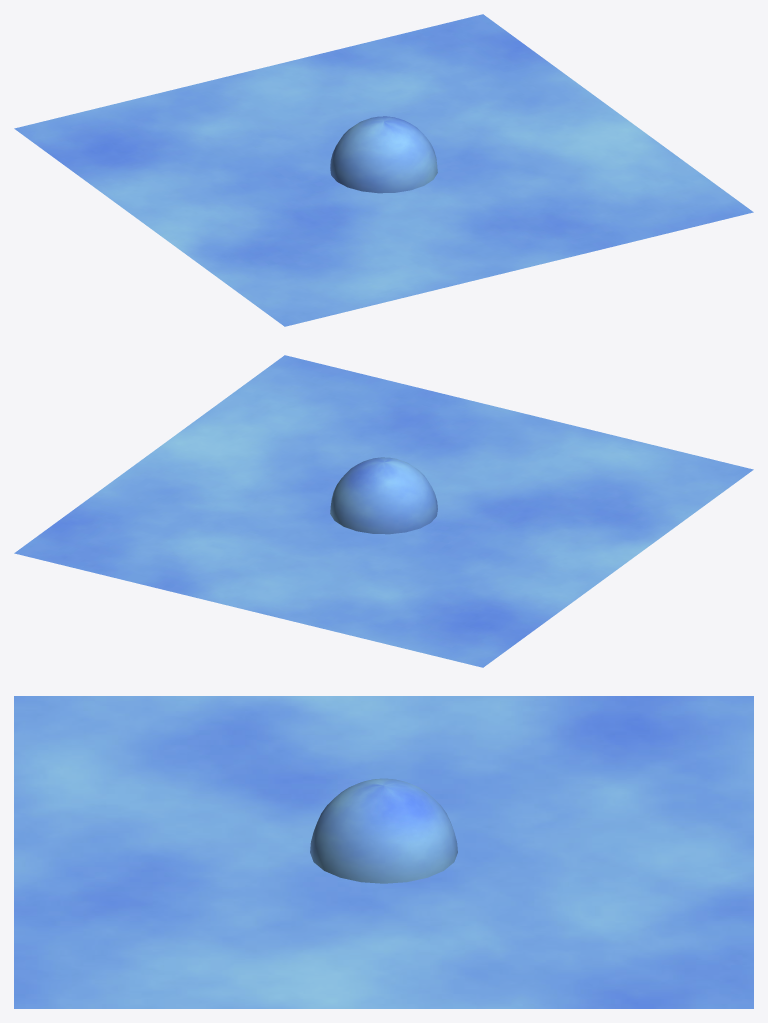
File: Water.fbx
3 views of the same model, one above another, from view 1: azimuth 30°, elevation 25°; view 2: azimuth 150°, elevation 25°; view 3: azimuth 270°, elevation 25° (orthographic). The views are drawn at different scales.
Visible parts, largest first — view 1: pPlane1, pSphere1; view 2: pPlane1, pSphere1; view 3: pPlane1, pSphere1.
Boxes of the visible parts, x1=… form: pPlane1: x1=14, y1=14, x2=753, y2=326; pSphere1: x1=330, y1=116, x2=437, y2=193; pPlane1: x1=14, y1=355, x2=753, y2=667; pSphere1: x1=330, y1=457, x2=437, y2=534; pPlane1: x1=14, y1=696, x2=753, y2=1008; pSphere1: x1=310, y1=778, x2=457, y2=883.
Bounding box in the file's own units: 10 × 2 × 10.
Materials: 1 (1 with a texture image).
